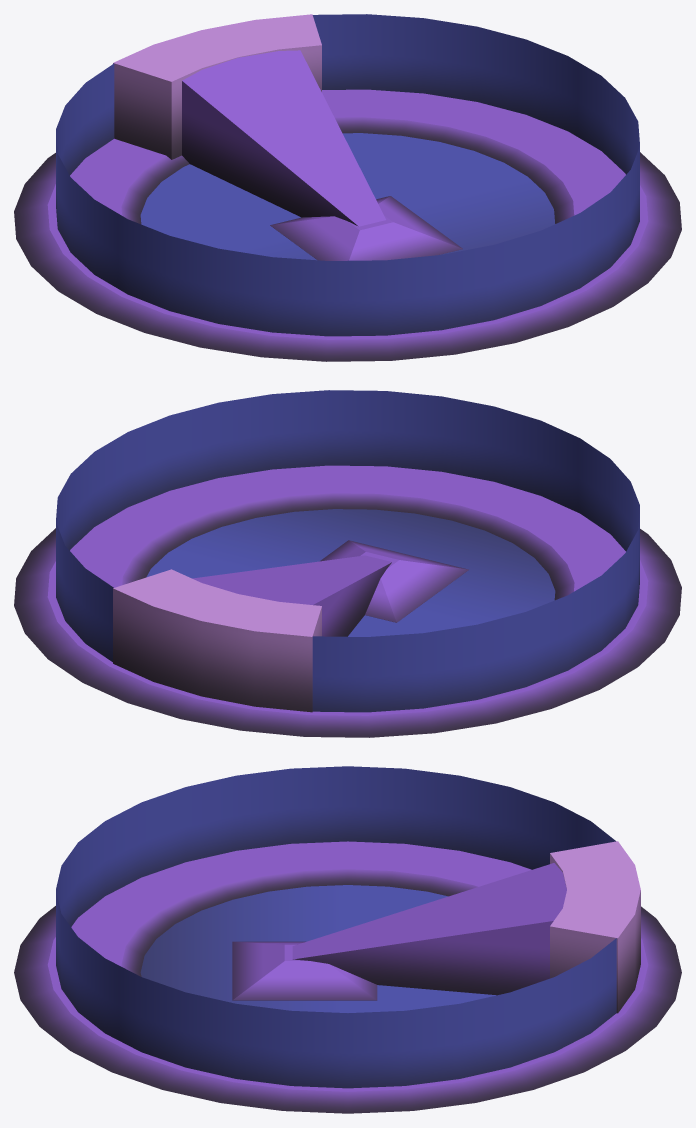
The model's file is ChunkStart.glb.
The picture shows the model from 3 angles, top to bottom: view 1: azimuth 30°, elevation 25°; view 2: azimuth 150°, elevation 25°; view 3: azimuth 270°, elevation 25°; orthographic projection.
Parts seen in each view (by area): view 1: ChunkStart; view 2: ChunkStart; view 3: ChunkStart.
Boxes of the visible parts, x1,y1,x2,y2 form: ChunkStart: (14,14,681,361); ChunkStart: (14,390,681,737); ChunkStart: (14,766,681,1113).
Size of what is drawn, in the model's own units: 79.04 by 11.29 by 79.04.
Materials: 1 (1 with a texture image).
